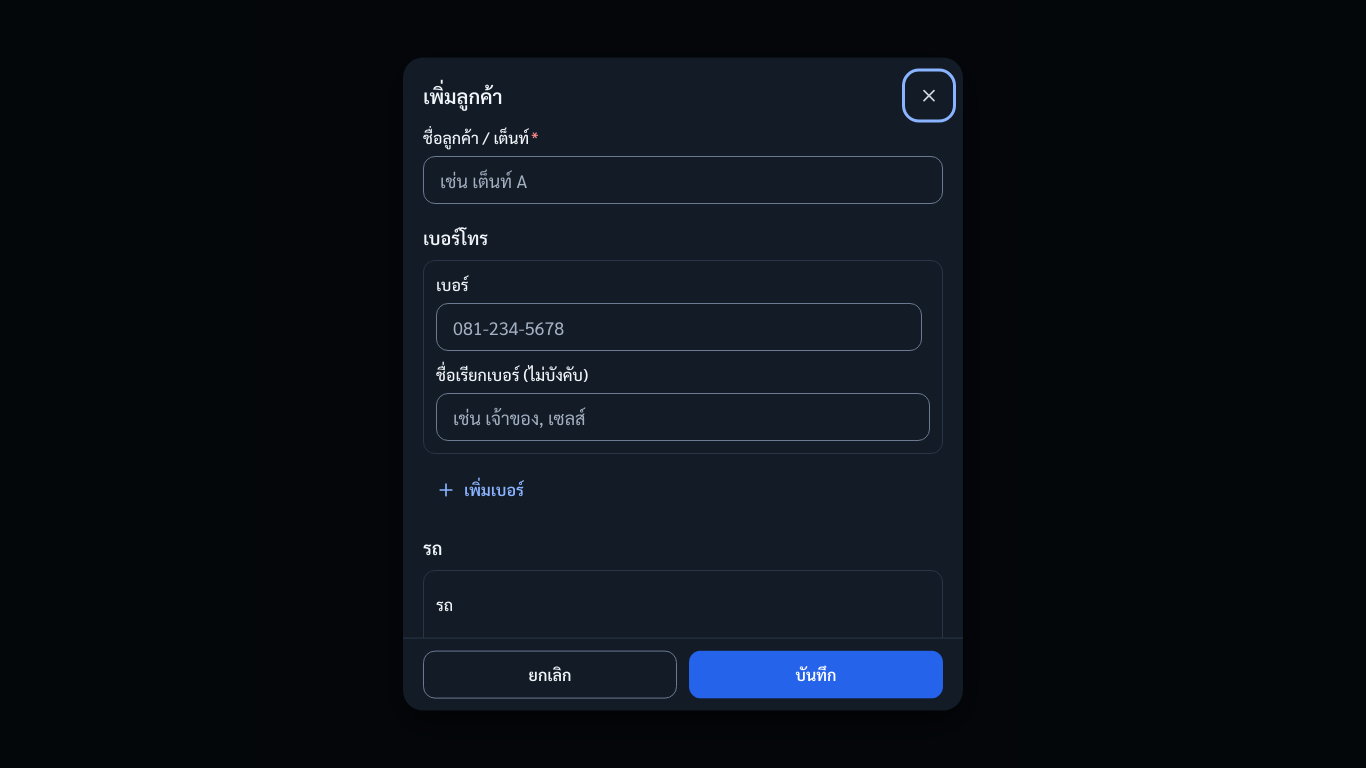
Test: CustomerFormDialog › does not save without a name or with a wrong number, and lists what to fix (AC-01-2)
Type "0812" into the field labelled "เบอร์".
click(679, 327); type("0812")  # box [453, 304, 905, 350]
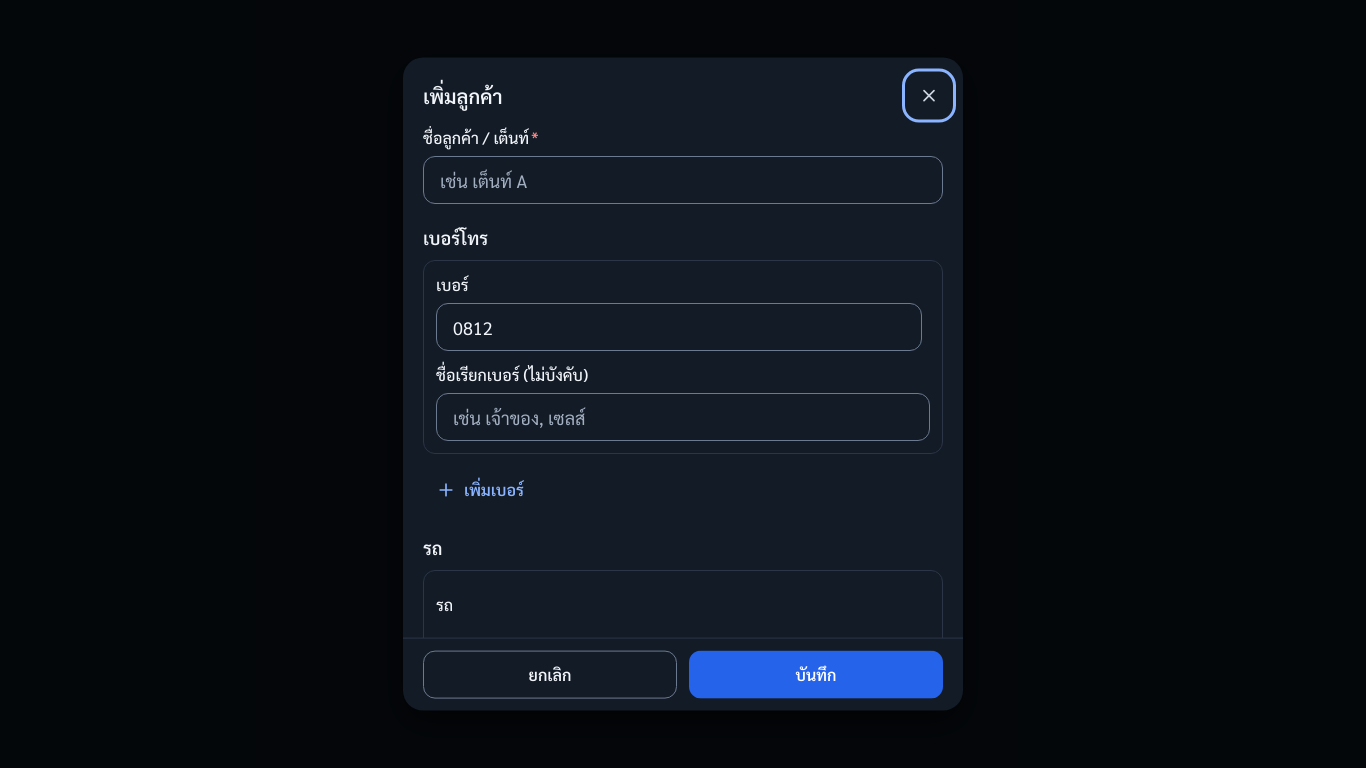
Click the button "บันทึก".
click(816, 674)  # box [689, 650, 943, 698]
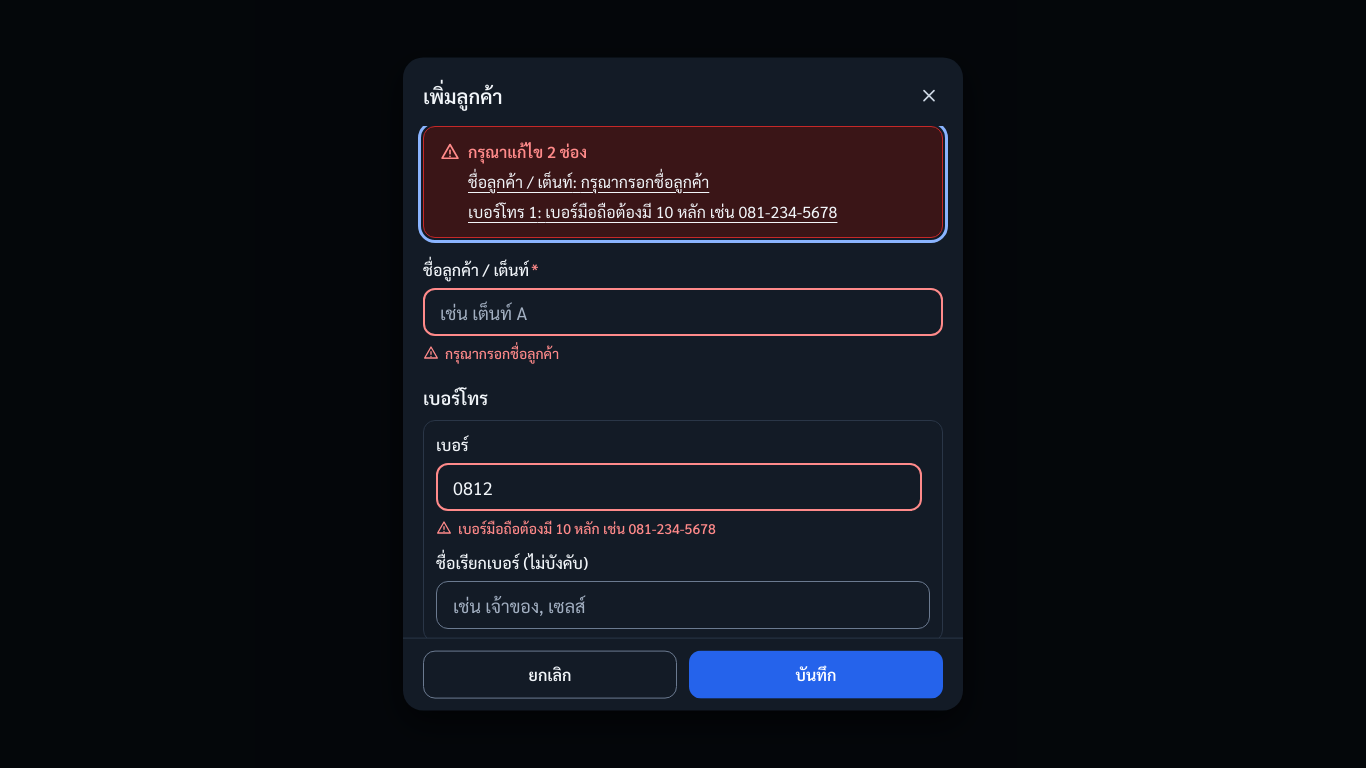
Expected: the text "กรุณาแก้ไข 2 ช่อง" shows "กรุณากรอกชื่อลูกค้า", [468, 171, 709, 192]
Expected: the text "กรุณาแก้ไข 2 ช่อง" shows "เบอร์มือถือต้องมี 10 หลัก", [468, 201, 837, 222]
